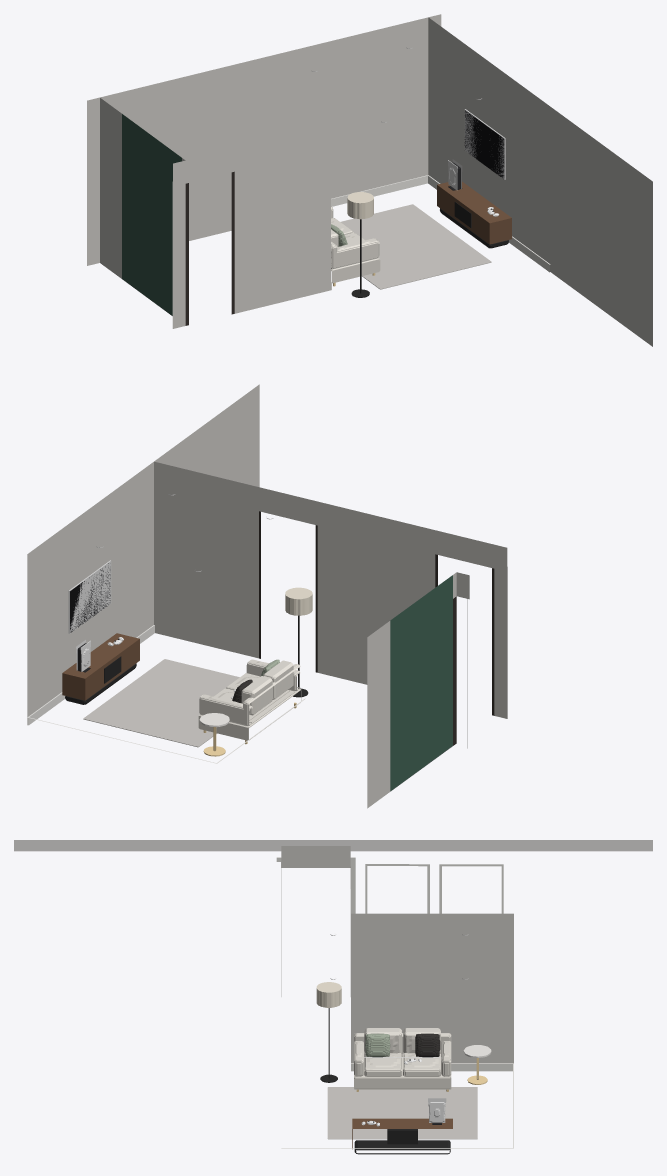
File: ALPHA.glb
3 renders of one model, top to bottom at view 1: azimuth 30°, elevation 25°; view 2: azimuth 150°, elevation 25°; view 3: azimuth 270°, elevation 25°, orthographic. The views are drawn at different scales.
Visible parts, largest first — view 1: WEB_ALPHA; view 2: WEB_ALPHA; view 3: WEB_ALPHA.
Boxes of the visible parts, x1,y1,x2,y2 form: WEB_ALPHA: (87,14,652,346); WEB_ALPHA: (27,384,507,808); WEB_ALPHA: (14,840,652,1154).
Size of the model in its own units: 5.61 by 2.5 by 9.2.
